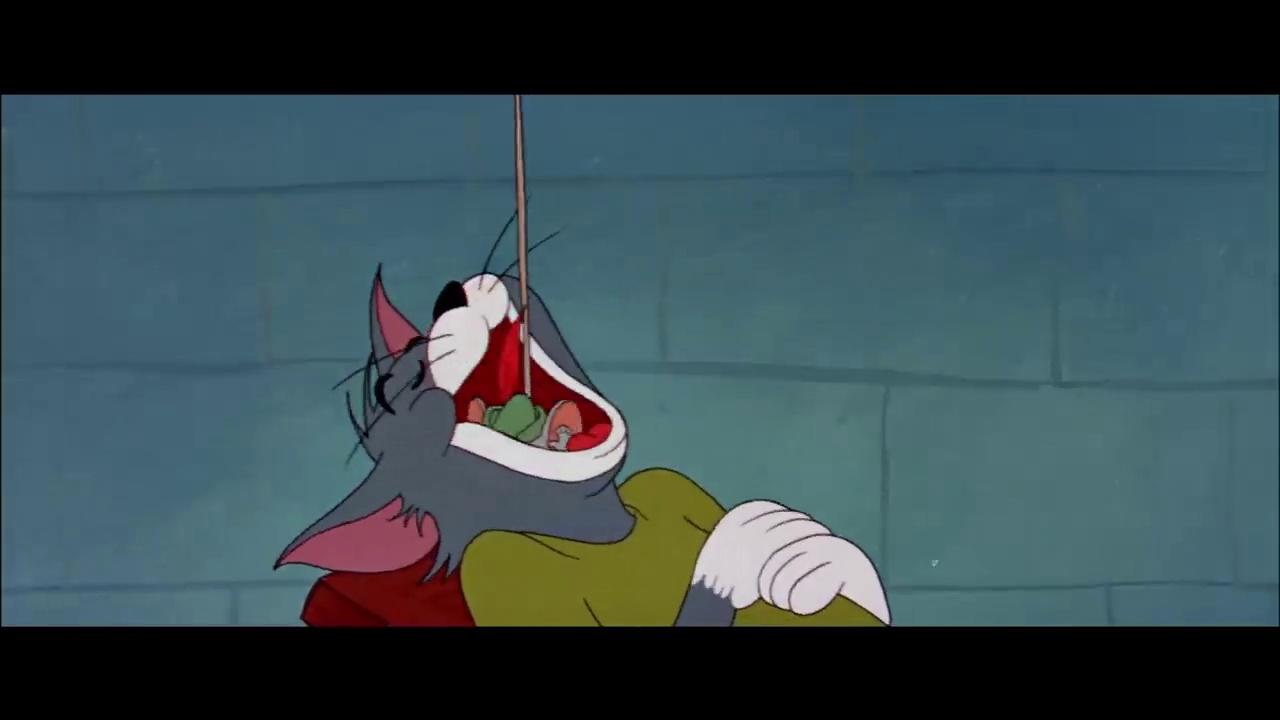Tom: (272, 260, 893, 626)
